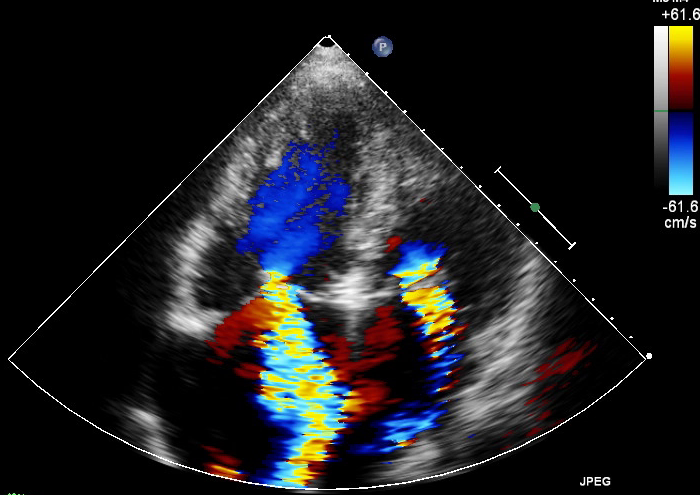MR: (389, 252, 466, 369)
